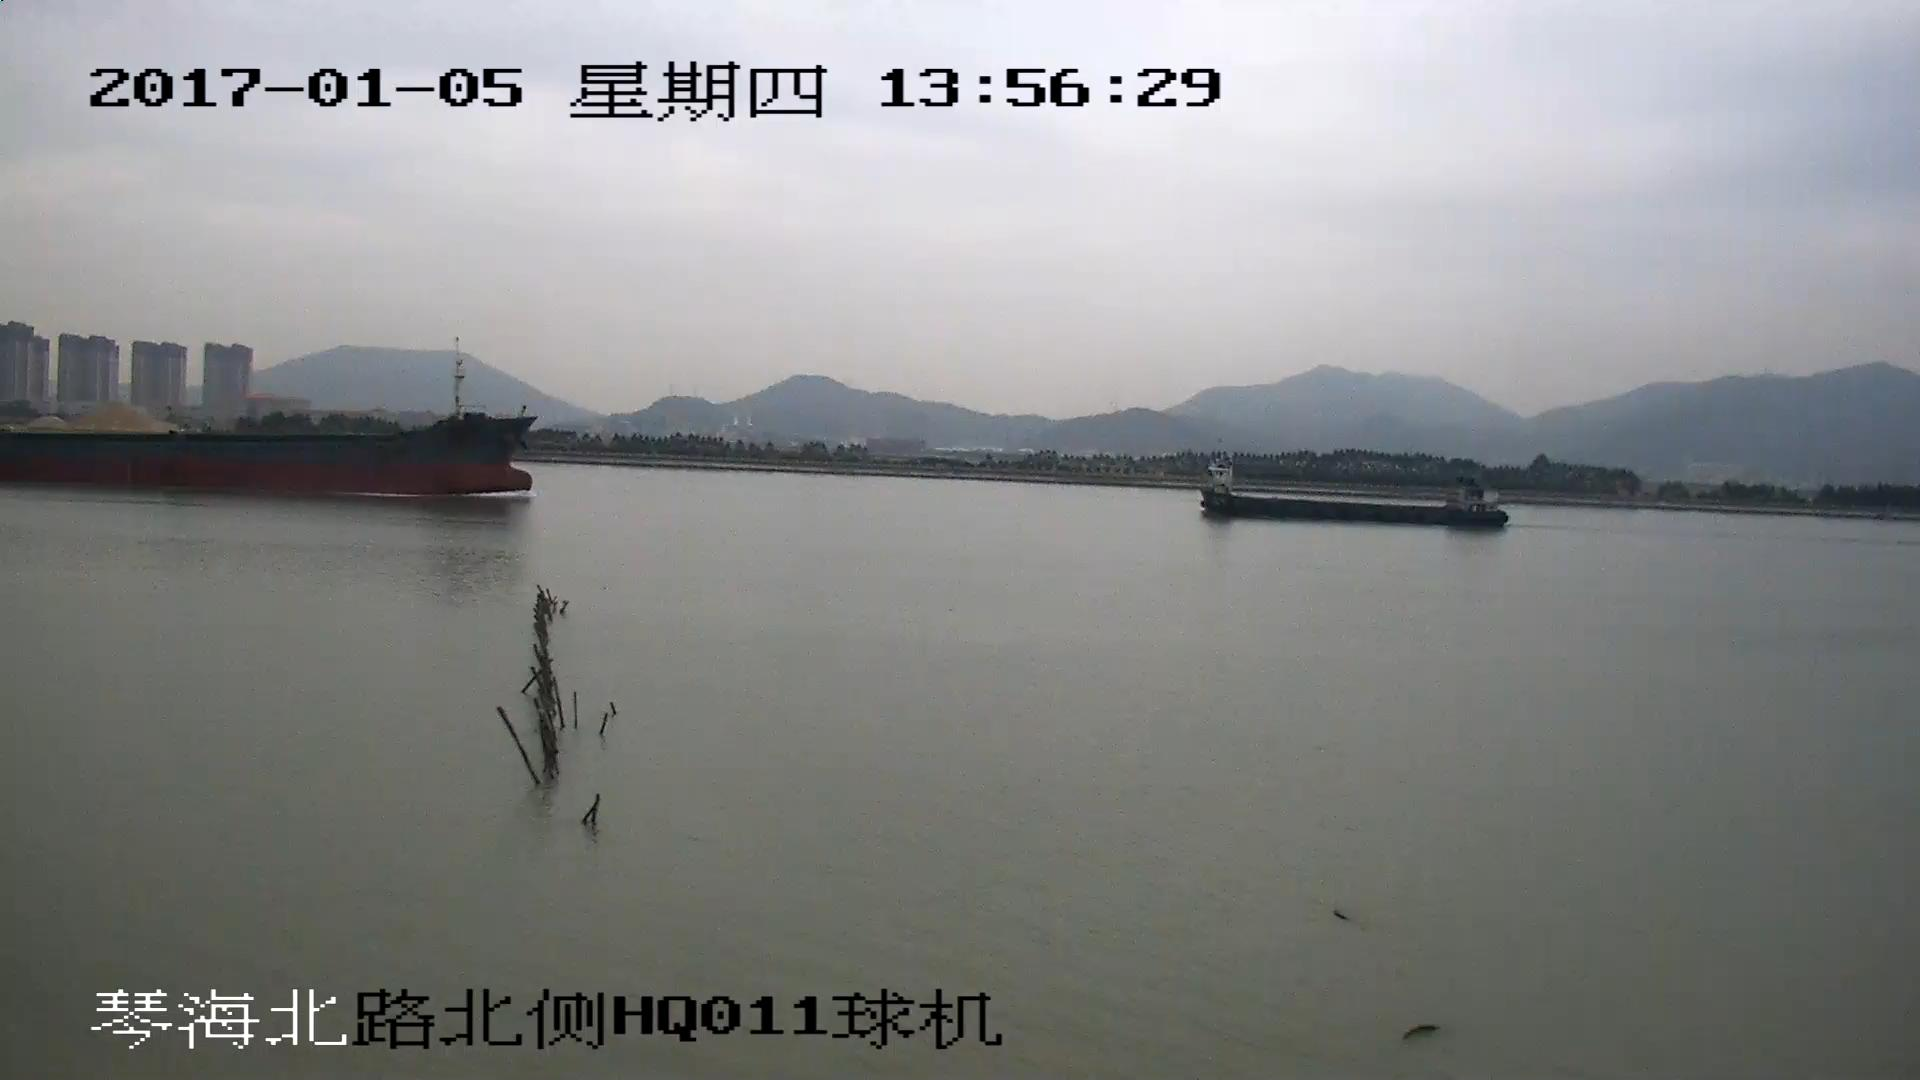general cargo ship: (1, 344, 533, 496), (1194, 459, 1508, 528)
